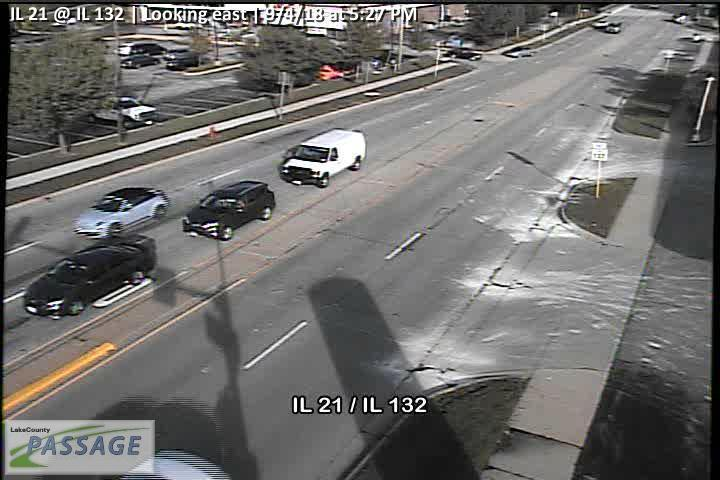SUV: (281, 129, 366, 189), (127, 40, 168, 54)
Sedan: (20, 237, 157, 316), (180, 180, 277, 240), (71, 186, 170, 242), (87, 94, 158, 128), (119, 53, 161, 69)
